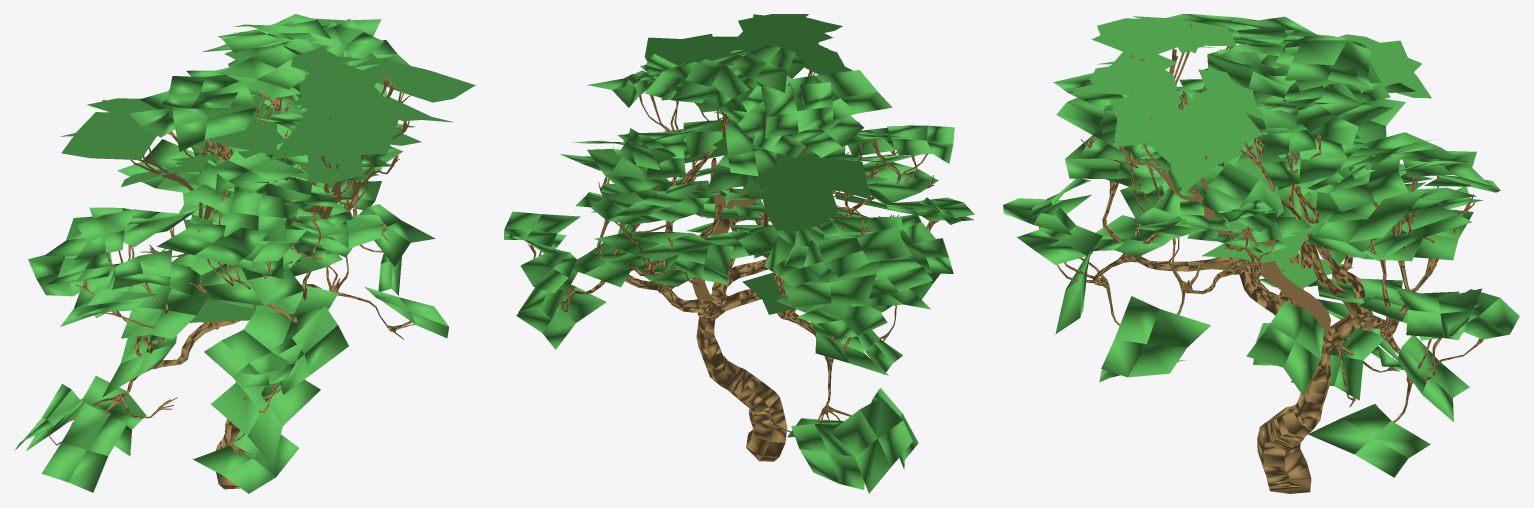
Rendered from tree7.fbx.
3 views of the same model, side by side, from view 1: azimuth 30°, elevation 25°; view 2: azimuth 150°, elevation 25°; view 3: azimuth 270°, elevation 25° (orthographic). The views are drawn at different scales.
Visible parts, largest first — view 1: leaves, trunk; view 2: leaves, trunk; view 3: leaves, trunk.
Boxes of the visible parts, x1=… form: leaves: x1=15, y1=14, x2=475, y2=493; trunk: x1=47, y1=60, x2=414, y2=489; leaves: x1=504, y1=14, x2=974, y2=493; trunk: x1=528, y1=27, x2=939, y2=461; leaves: x1=1003, y1=14, x2=1519, y2=477; trunk: x1=1038, y1=24, x2=1483, y2=493.
Bounding box in the file's own units: 199 × 202 × 190.
